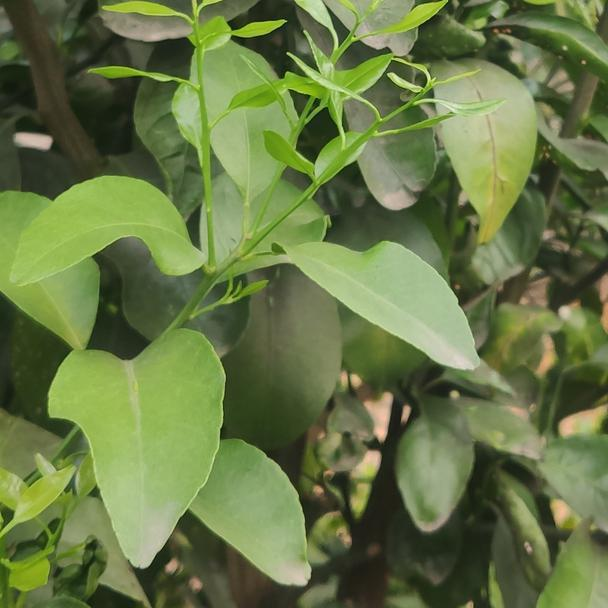shoot: (286, 53, 497, 208), (108, 2, 270, 164), (274, 2, 445, 149)
